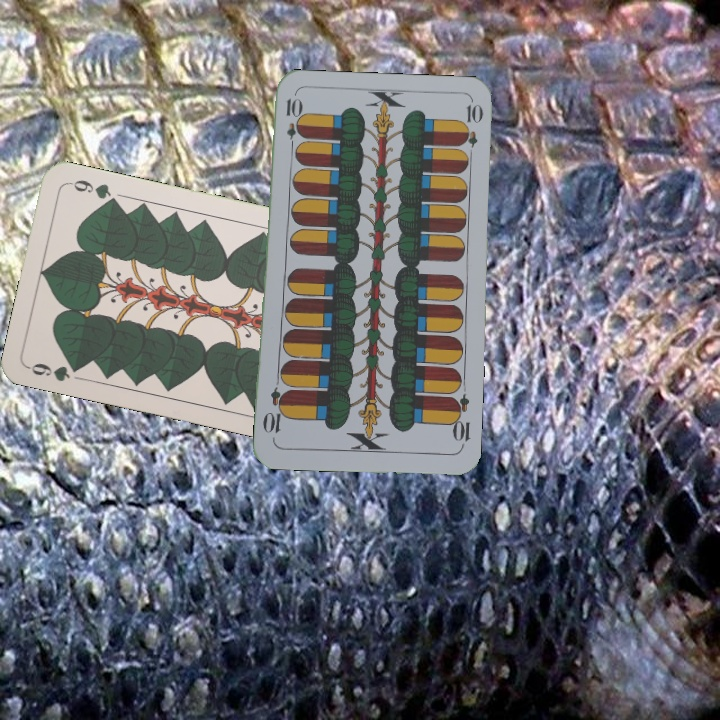E10: (447, 391, 473, 450), (282, 94, 300, 153)
G9: (24, 359, 85, 384)
